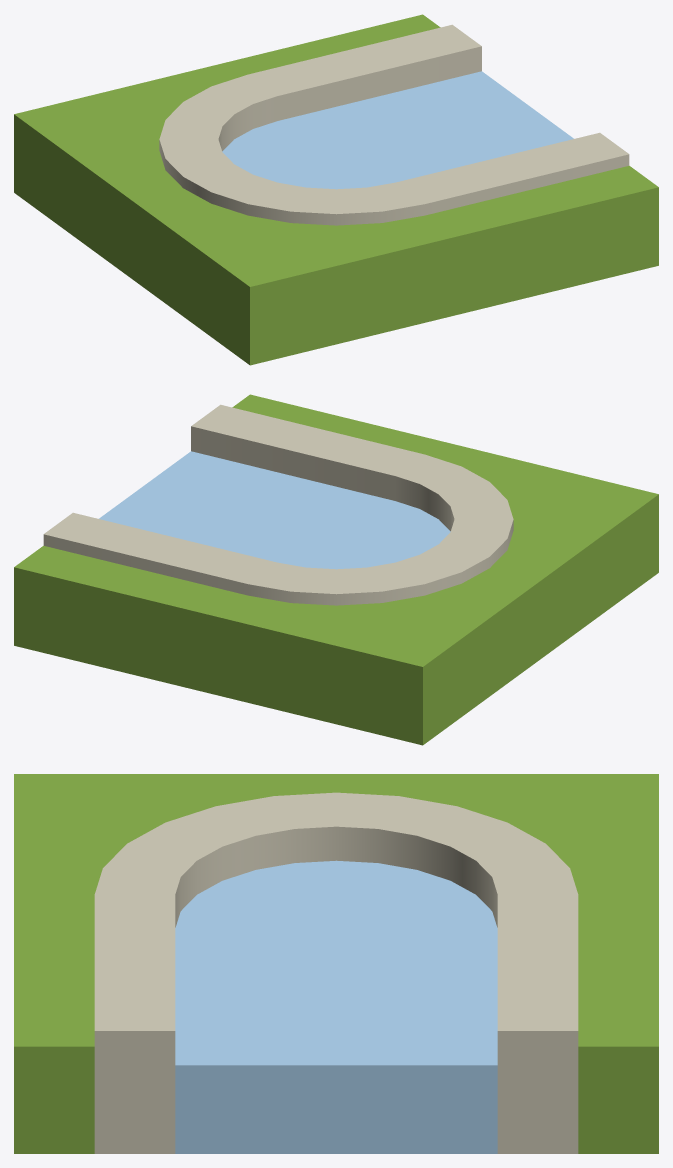
The model's file is roadTile_273.fbx.
The picture shows the model from 3 angles, top to bottom: view 1: azimuth 30°, elevation 25°; view 2: azimuth 150°, elevation 25°; view 3: azimuth 270°, elevation 25°; orthographic projection. The views are drawn at different scales.
Parts seen in each view (by area): view 1: roadTile_273; view 2: roadTile_273; view 3: roadTile_273.
Part boxes in pixels (x1,y1,x2,y2): roadTile_273: (14,14,658,365); roadTile_273: (14,394,658,745); roadTile_273: (14,774,658,1153).
Size of the model in its own units: 118 by 24.8 by 118.
